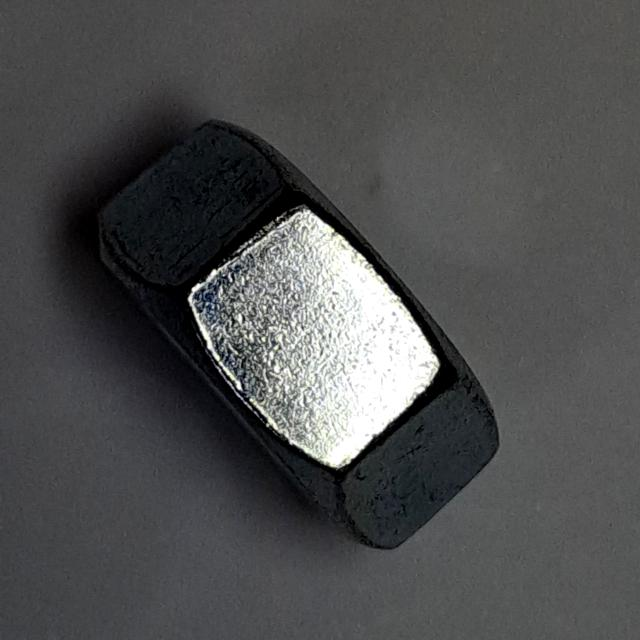Side_Excellent: (87, 109, 521, 561)
